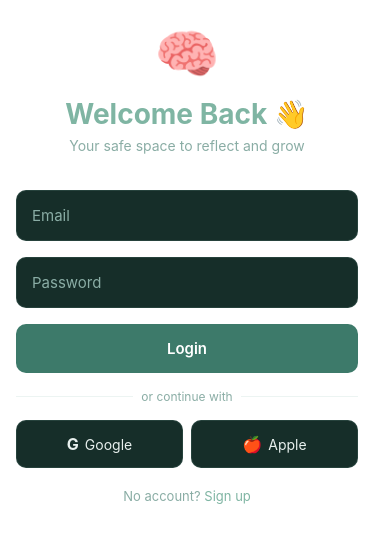
Scenario: LoginScreen › shows error if fields are empty
Click the text "Login": (187, 348) [167, 339, 207, 358]
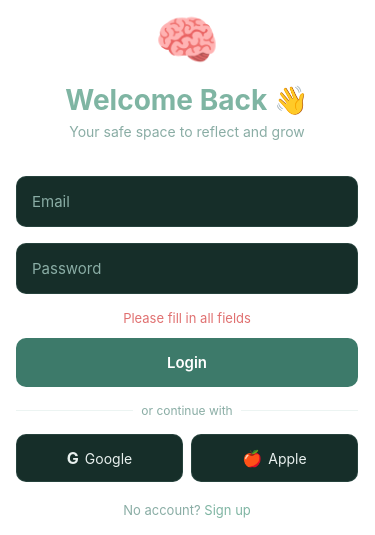
Expected: the text "Please fill in all fields" is shown, [123, 310, 251, 326]
